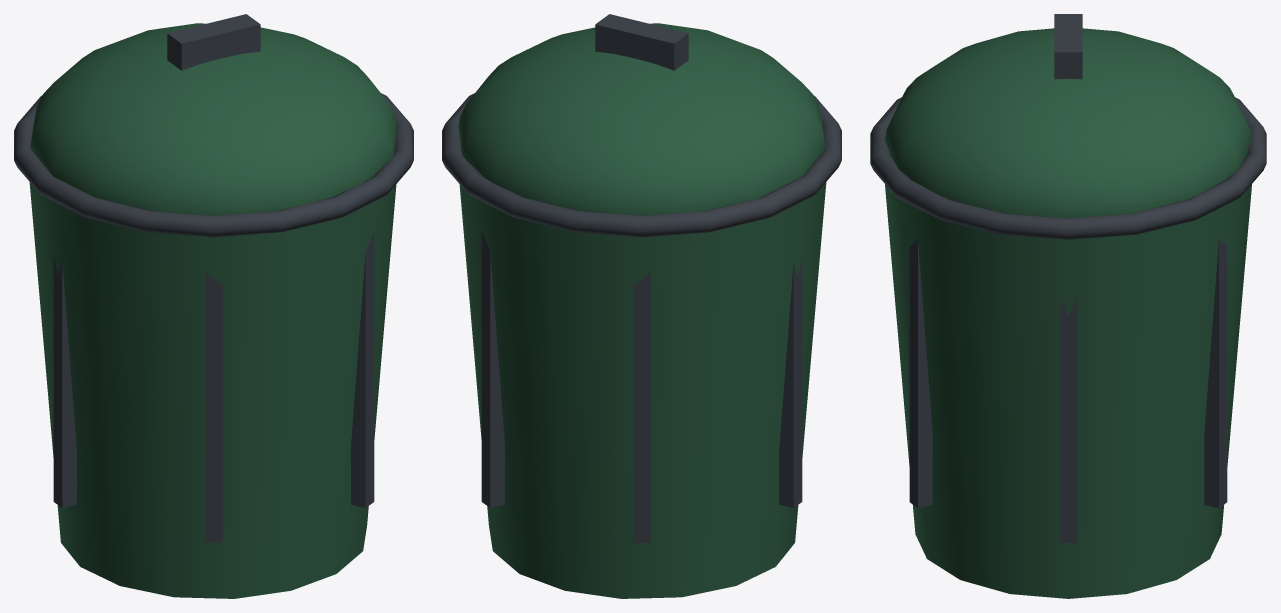
The model's file is prop_bin.glb.
3 views of the same model, side by side, from view 1: azimuth 30°, elevation 25°; view 2: azimuth 150°, elevation 25°; view 3: azimuth 270°, elevation 25° (orthographic).
Visible parts, largest first — view 1: prop_bin; view 2: prop_bin; view 3: prop_bin.
Part boxes in pixels (bbox=[...]): prop_bin: bbox=[14, 14, 413, 598]; prop_bin: bbox=[442, 14, 841, 598]; prop_bin: bbox=[870, 14, 1266, 598].
Bounding box in the file's own units: 0.71 × 0.975 × 0.6992.
